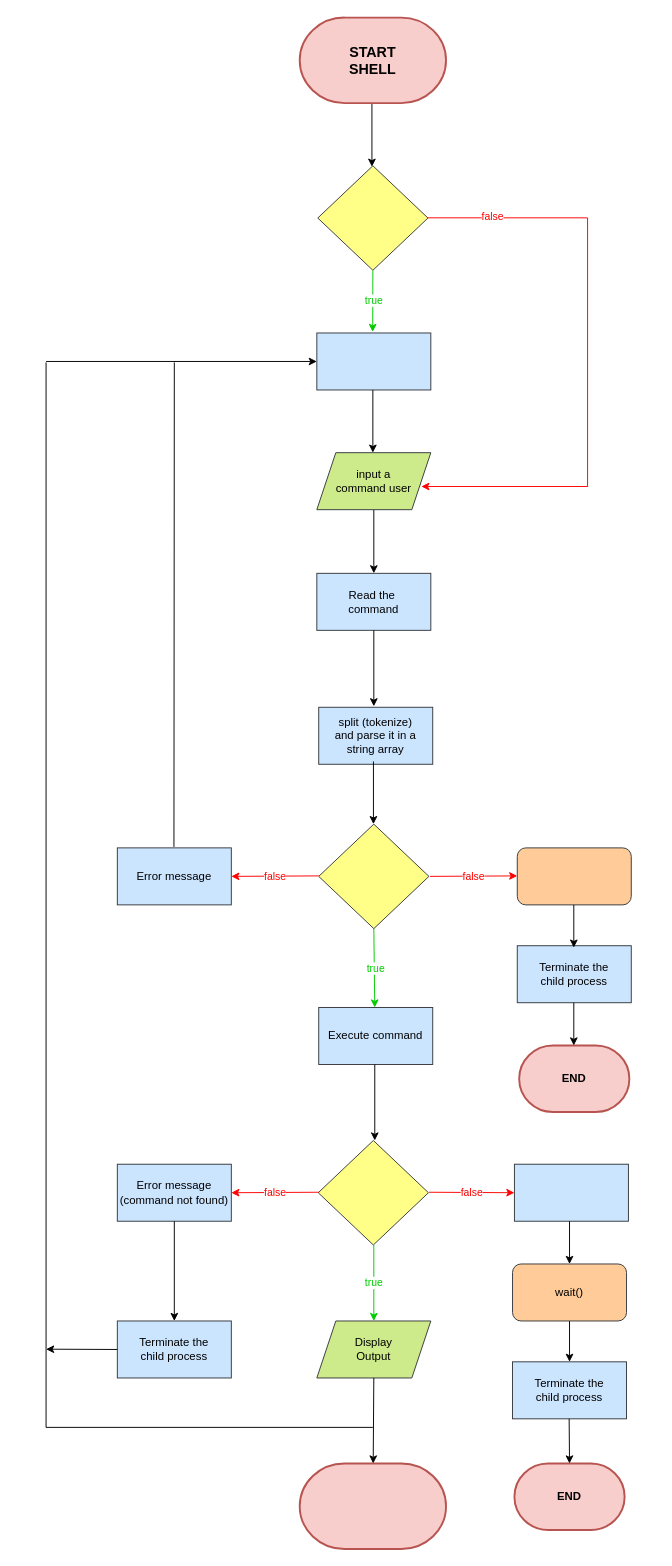
Image size: 672x1566. Some labels were removed from this diagram. The box of each missing label's shape, as (x1, y1, x2, y2) in pixels:
Check if comand existe: (318, 823, 429, 929)
Display the prompt: (316, 332, 431, 390)
END PROGRAM: (298, 1462, 446, 1549)
Exit (1): (516, 847, 631, 905)
is interractive?: (317, 165, 428, 270)
is the command executed ?: (317, 1140, 428, 1245)
Parent process: (513, 1163, 628, 1221)
